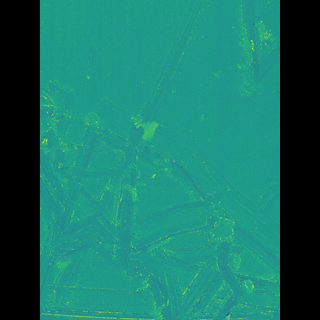Loch: (68, 86, 250, 319), (141, 0, 199, 131), (213, 0, 249, 99)
